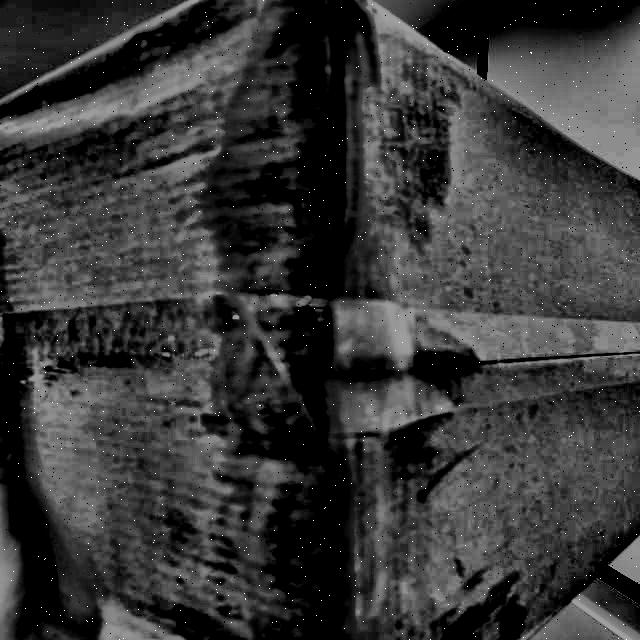box: (2, 0, 639, 639)
wet: (190, 15, 481, 640)
